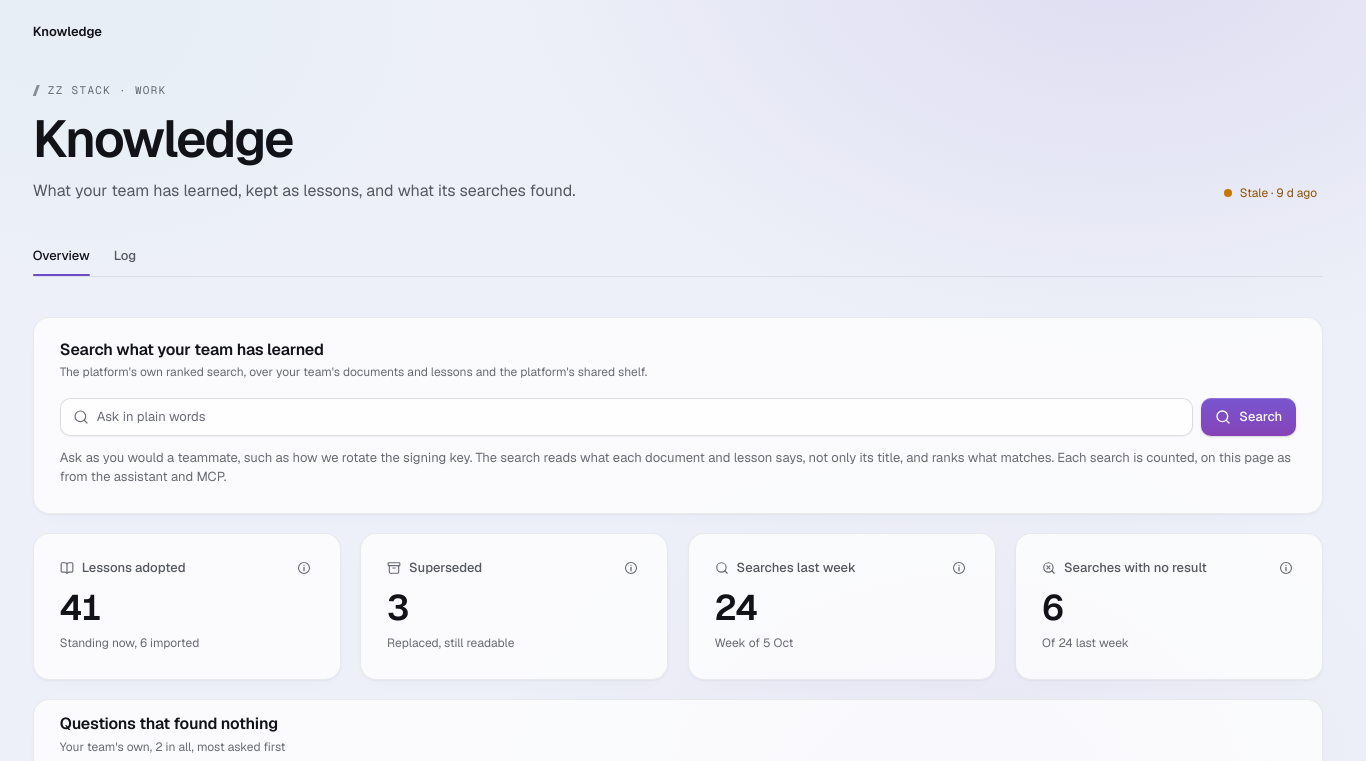
Test: the Knowledge page leads with the search › draws the ranked results in the gateway's order, each with its shelf, and a shared lesson opens its node page
Type "rank by recency" into the search field named "Question" at {"x": 638, "y": 417}, box top-left (97, 399), bottom-right (1180, 435)
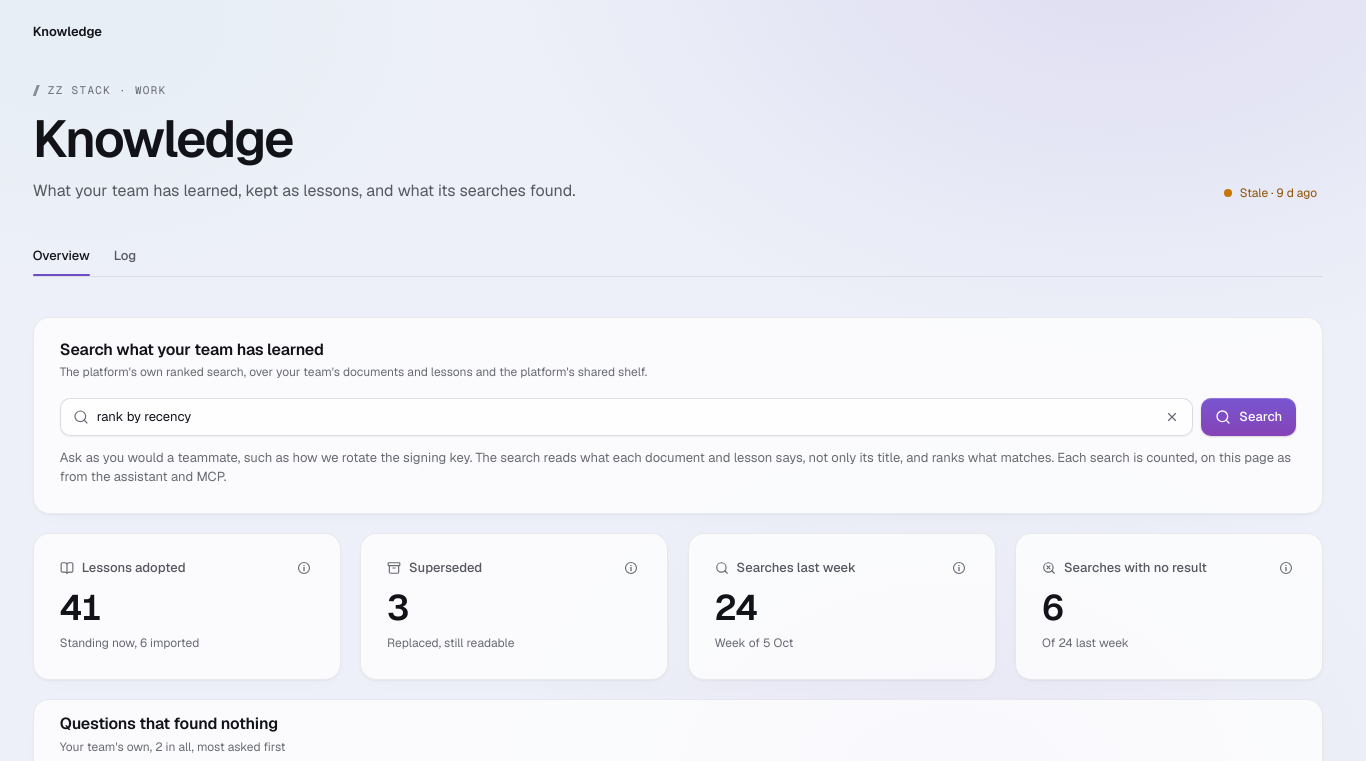
Submit the form, box top-left (60, 398), bottom-right (1296, 436)
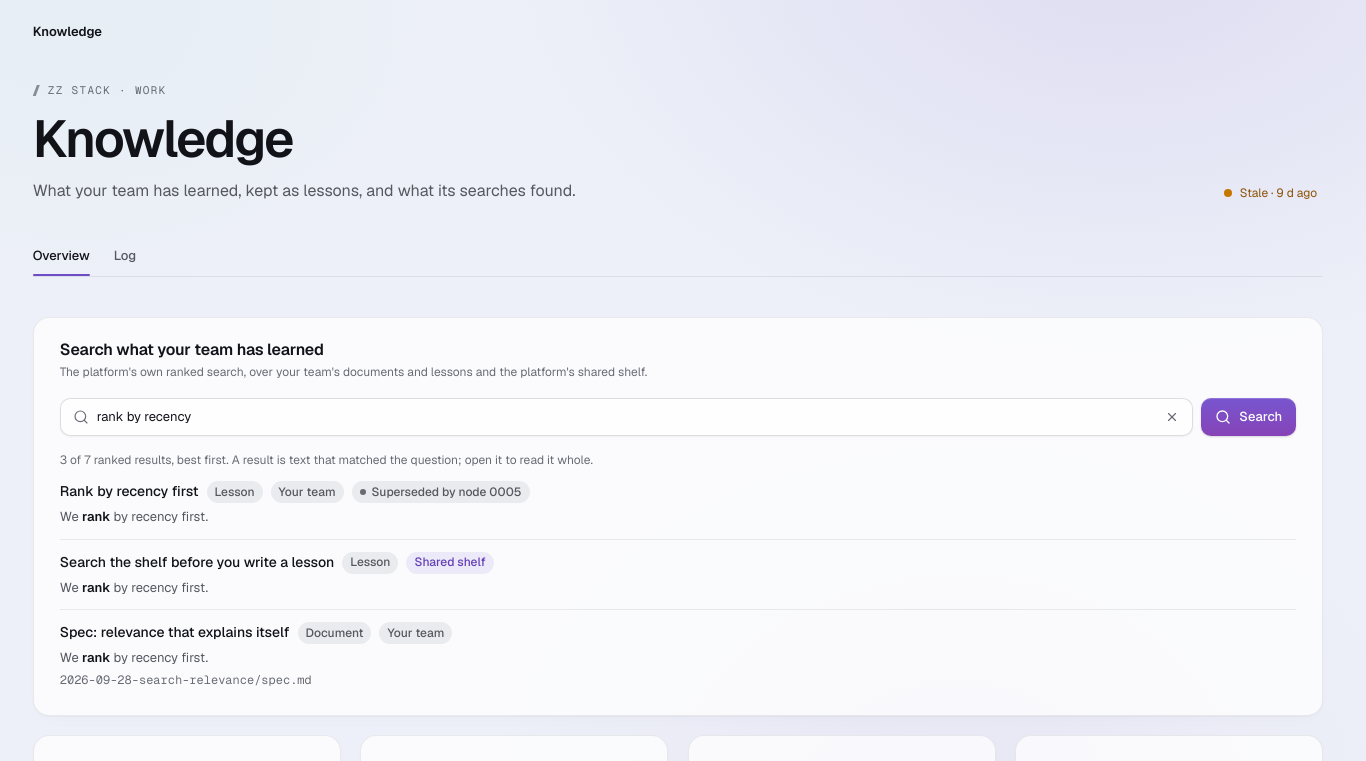
Now the text "Your team" next to "Superseded by" is shown, box top-left (279, 484), bottom-right (336, 500)
Now the text "Shared shelf" is shown, box top-left (406, 552), bottom-right (494, 574)
Now the text "Superseded by node 0005" is shown, box top-left (352, 481), bottom-right (530, 503)
